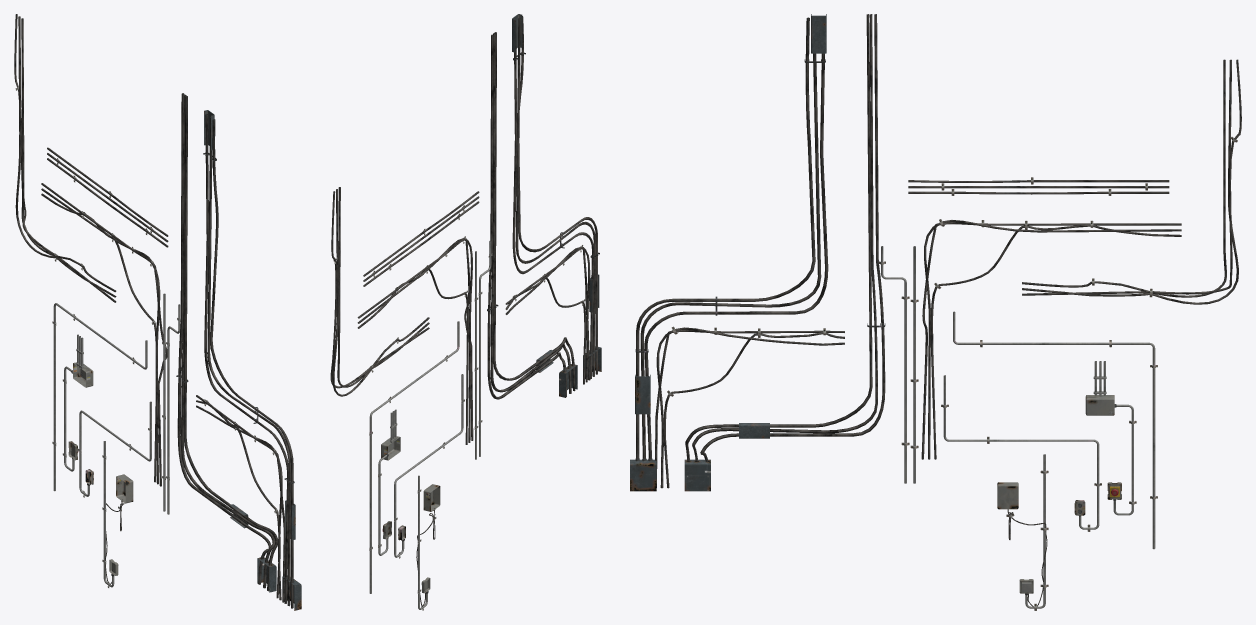
The model's file is WallWiresPack1.fbx.
3 views of the same model, side by side, from view 1: azimuth 30°, elevation 25°; view 2: azimuth 150°, elevation 25°; view 3: azimuth 270°, elevation 25° (orthographic). The views are drawn at different scales.
Parts seen in each view (by area): view 1: SM_WallWire_05.mo, SM_WallWire_01.mo, SM_WallWire_10.mo, SM_WallWire_09.mo, SM_WallWire_11.mo, SM_WallWire_06.mo, SM_WallWire_03.mo, SM_WallWire_04.mo, SM_WallWire_02.mo, SM_WallWire_08.mo, SM_WallWire_07.mo; view 2: SM_WallWire_05.mo, SM_WallWire_01.mo, SM_WallWire_10.mo, SM_WallWire_09.mo, SM_WallWire_11.mo, SM_WallWire_04.mo, SM_WallWire_03.mo, SM_WallWire_02.mo, SM_WallWire_06.mo, SM_WallWire_08.mo, SM_WallWire_07.mo; view 3: SM_WallWire_05.mo, SM_WallWire_01.mo, SM_WallWire_10.mo, SM_WallWire_09.mo, SM_WallWire_11.mo, SM_WallWire_04.mo, SM_WallWire_02.mo, SM_WallWire_03.mo, SM_WallWire_06.mo, SM_WallWire_08.mo, SM_WallWire_07.mo.
Part boxes in pixels (box(x1,y1,x2,y2)): SM_WallWire_05.mo: box(203, 110, 301, 610); SM_WallWire_01.mo: box(176, 93, 277, 592); SM_WallWire_10.mo: box(41, 183, 167, 486); SM_WallWire_09.mo: box(14, 14, 116, 302); SM_WallWire_11.mo: box(196, 395, 285, 602); SM_WallWire_06.mo: box(162, 293, 180, 514); SM_WallWire_03.mo: box(102, 441, 133, 588); SM_WallWire_04.mo: box(47, 147, 168, 247); SM_WallWire_02.mo: box(62, 334, 93, 471); SM_WallWire_08.mo: box(52, 303, 147, 491); SM_WallWire_07.mo: box(78, 401, 151, 497); SM_WallWire_05.mo: box(512, 14, 601, 380); SM_WallWire_01.mo: box(487, 32, 577, 399); SM_WallWire_10.mo: box(357, 236, 473, 444); SM_WallWire_09.mo: box(330, 187, 429, 396); SM_WallWire_11.mo: box(505, 245, 590, 384); SM_WallWire_04.mo: box(363, 191, 479, 286); SM_WallWire_03.mo: box(416, 475, 440, 610); SM_WallWire_02.mo: box(378, 409, 400, 555); SM_WallWire_06.mo: box(474, 240, 492, 459); SM_WallWire_08.mo: box(369, 321, 459, 593); SM_WallWire_07.mo: box(394, 374, 464, 558); SM_WallWire_05.mo: box(630, 14, 828, 491); SM_WallWire_01.mo: box(684, 14, 885, 491); SM_WallWire_10.mo: box(921, 219, 1181, 459); SM_WallWire_09.mo: box(1022, 59, 1241, 304); SM_WallWire_11.mo: box(655, 326, 844, 488); SM_WallWire_04.mo: box(908, 177, 1169, 195); SM_WallWire_02.mo: box(1085, 361, 1136, 515); SM_WallWire_03.mo: box(997, 454, 1048, 610); SM_WallWire_06.mo: box(879, 246, 918, 483); SM_WallWire_08.mo: box(953, 311, 1157, 549); SM_WallWire_07.mo: box(941, 375, 1101, 531).
Bounding box in the file's own units: 16.88 × 757 × 703.
